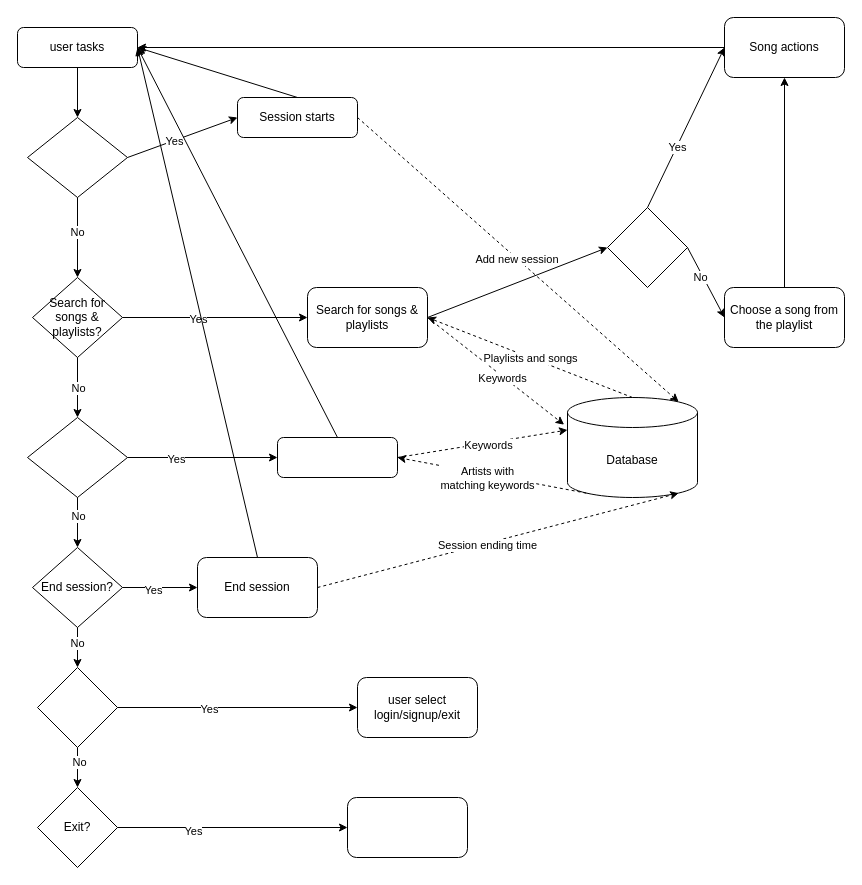
Some shapes in this 862 by 885 pixel diagram are drawn without their labels. Here are the shapes that lost their labels. From the top down, the centre of each, then its label:
At pixel 77 157: "Start Session?".
At pixel 647 247: "Is it a song?".
At pixel 77 457: "Search for artists?".
At pixel 337 457: "Search for artists".
At pixel 77 707: "Logout?".
At pixel 407 827: "Exit".
